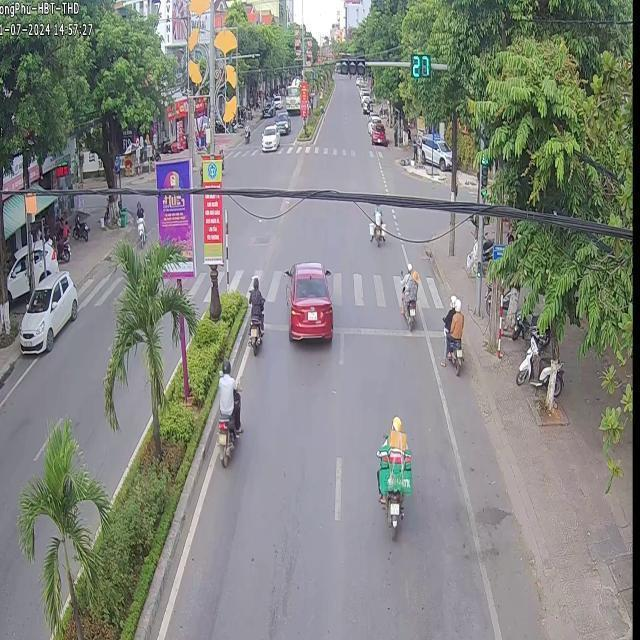car: (281, 257, 331, 344)
green_light: (340, 53, 363, 72), (479, 150, 487, 196)
motobike: (374, 414, 410, 538), (216, 358, 239, 465), (440, 298, 464, 374), (397, 254, 418, 336), (363, 194, 387, 253), (247, 274, 262, 356)
stop_line: (336, 324, 426, 335), (263, 320, 287, 328)
